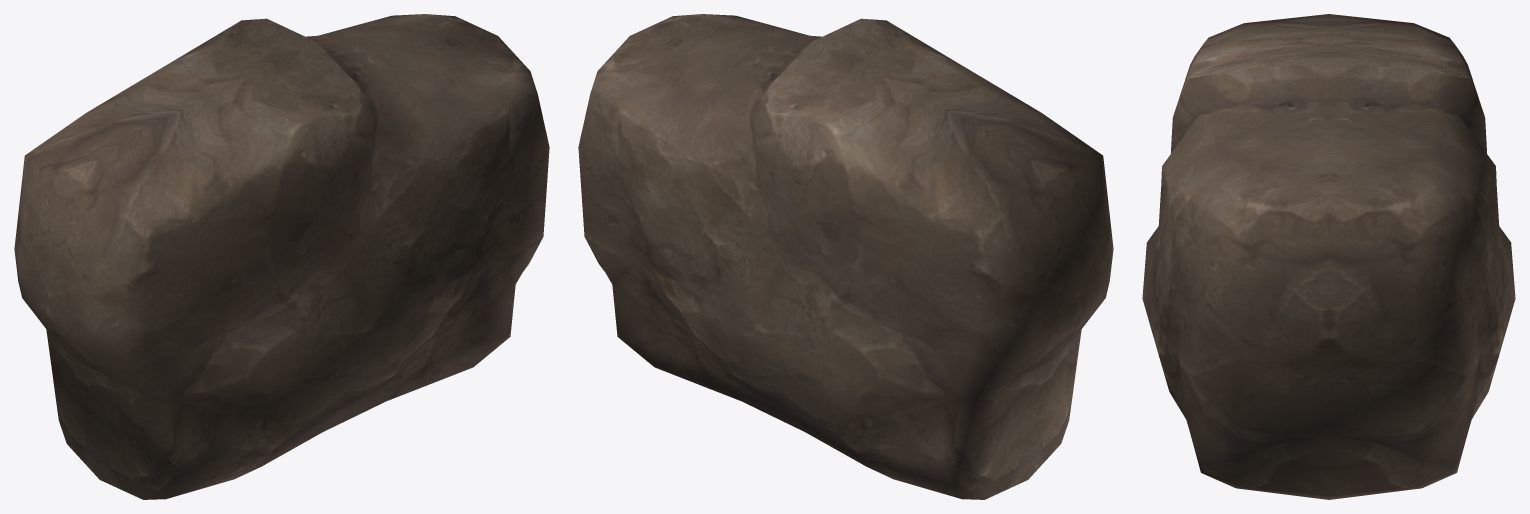
The model's file is Rock_06.obj.
3 views of the same model, side by side, from view 1: azimuth 30°, elevation 25°; view 2: azimuth 150°, elevation 25°; view 3: azimuth 270°, elevation 25° (orthographic). The views are drawn at different scales.
Visible parts, largest first — view 1: world_expansion06_doodads_suramar_7sr_cragrockwmo_ph_03.m2_Geose; view 2: world_expansion06_doodads_suramar_7sr_cragrockwmo_ph_03.m2_Geose; view 3: world_expansion06_doodads_suramar_7sr_cragrockwmo_ph_03.m2_Geose.
Part boxes in pixels (x1,y1,x2,y2): world_expansion06_doodads_suramar_7sr_cragrockwmo_ph_03.m2_Geose: [14, 14, 549, 499]; world_expansion06_doodads_suramar_7sr_cragrockwmo_ph_03.m2_Geose: [578, 14, 1113, 499]; world_expansion06_doodads_suramar_7sr_cragrockwmo_ph_03.m2_Geose: [1142, 14, 1515, 499].
Bounding box in the file's own units: 53.13 × 41.91 × 32.01.
Materials: 1 (1 with a texture image).
